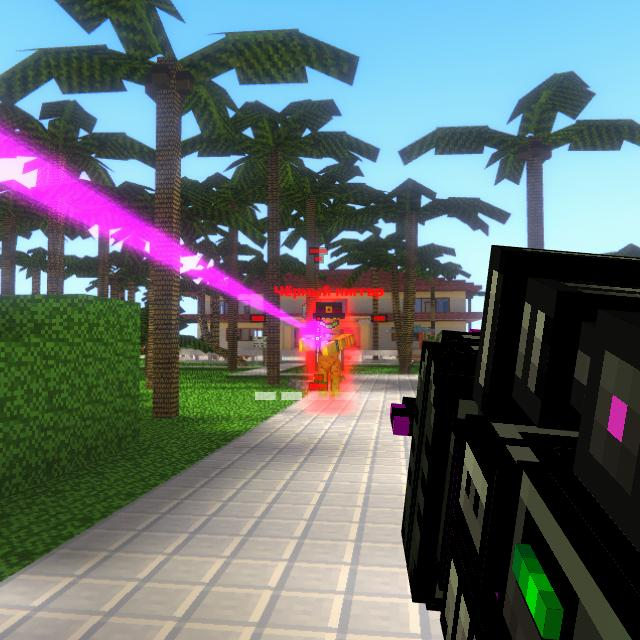Enemy: (298, 301, 354, 397)
